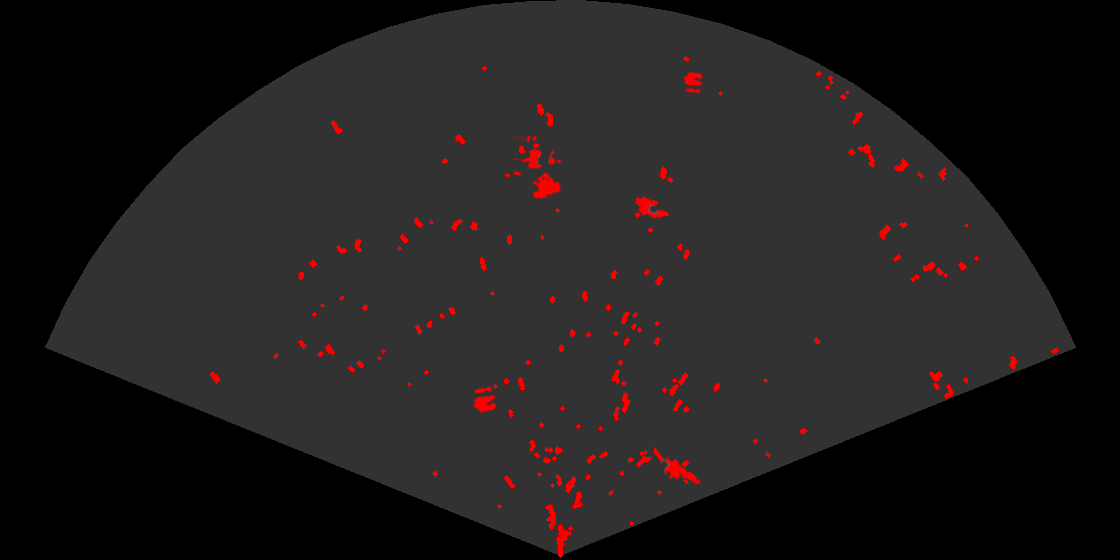AUV: (633, 195, 671, 220)
ball: (472, 385, 498, 414), (682, 70, 704, 95)
cage: (514, 136, 563, 201)
frogman: (654, 447, 703, 490)
